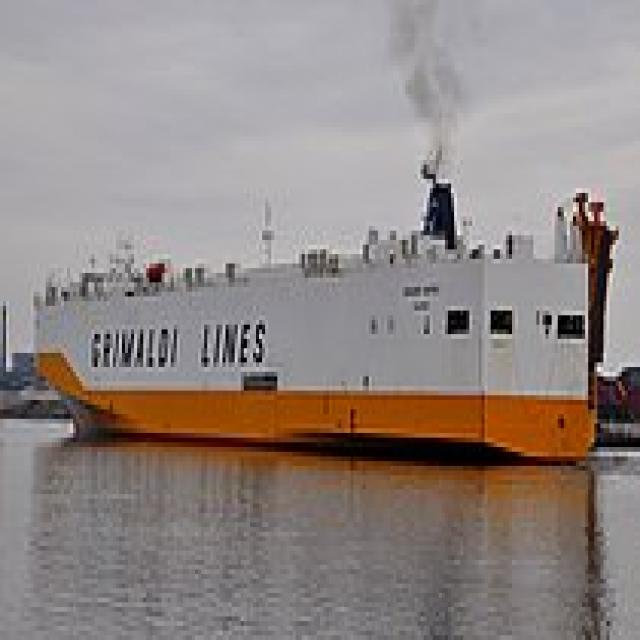Carrier: (28, 155, 598, 466)
